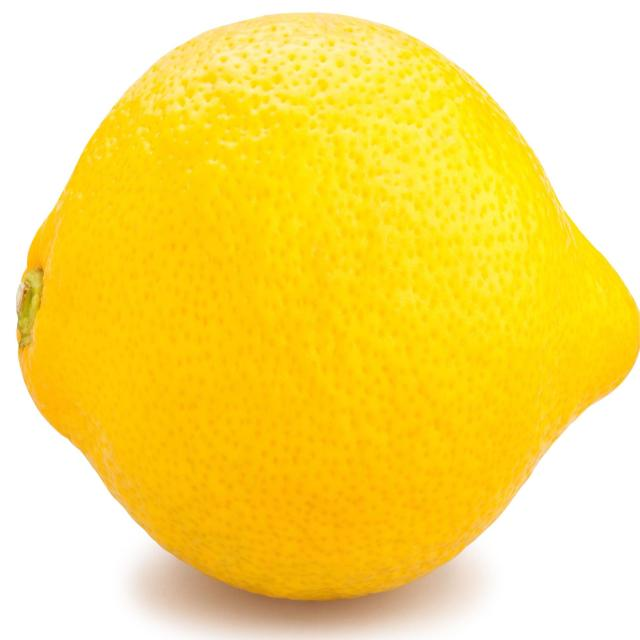lemon: (2, 0, 640, 609)
